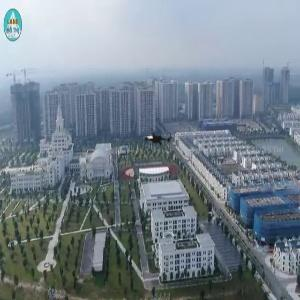drone: (138, 116, 182, 160)
